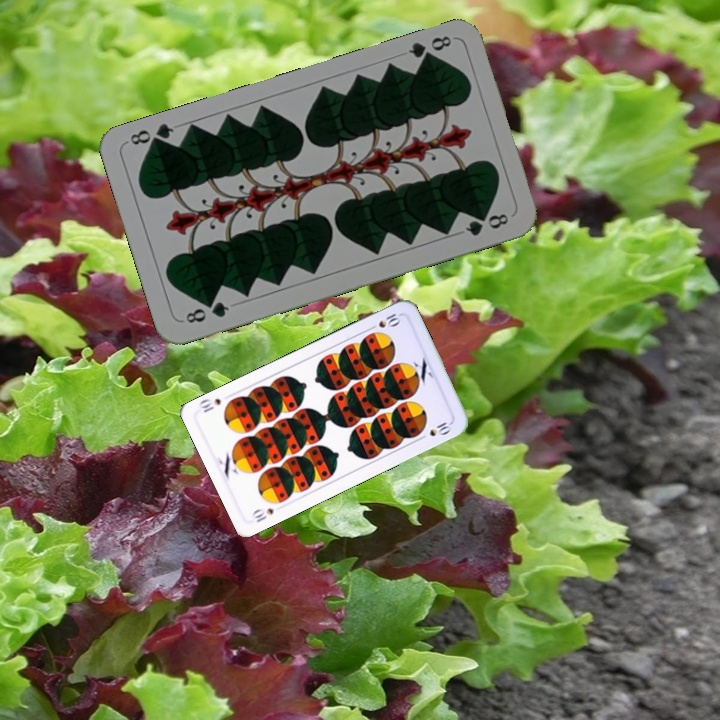G8: (404, 31, 454, 66), (181, 297, 232, 326)
S10: (364, 309, 403, 337), (248, 504, 276, 525)
